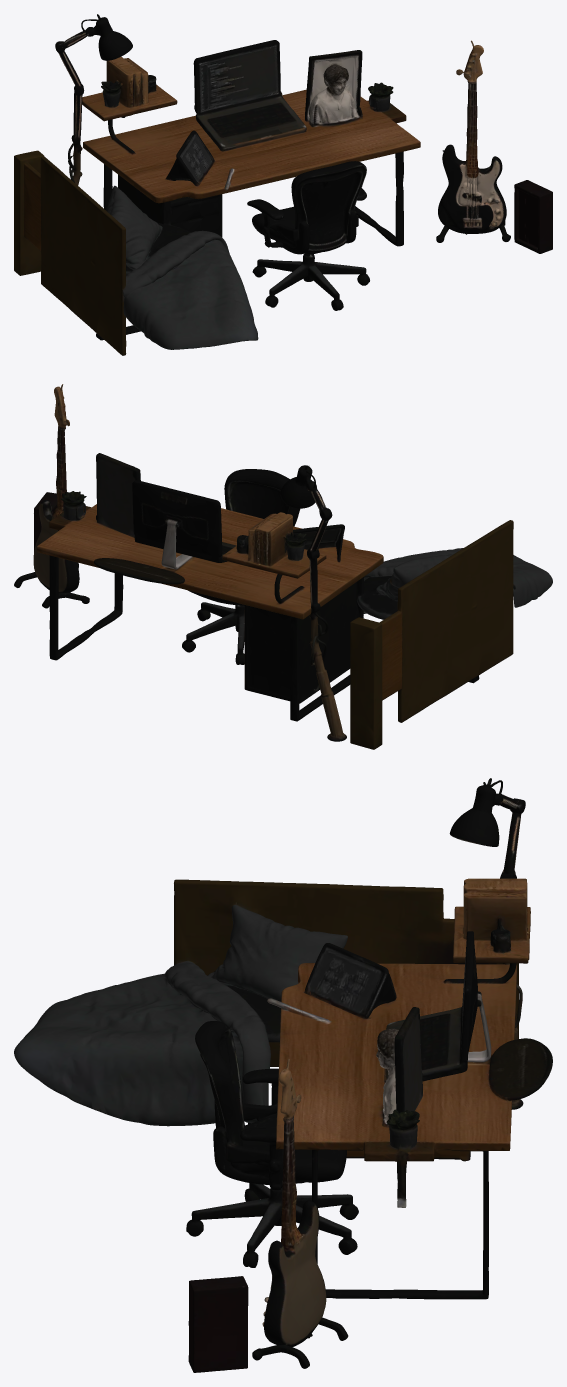
The model's file is room-3d.glb.
The picture shows the model from 3 angles, top to bottom: view 1: azimuth 30°, elevation 25°; view 2: azimuth 150°, elevation 25°; view 3: azimuth 270°, elevation 25°; orthographic projection. The views are drawn at different scales.
Parts seen in each view (by area): view 1: tripo_node_ea366ce3-75f6-42dc-ad20-02c5131ed846; view 2: tripo_node_ea366ce3-75f6-42dc-ad20-02c5131ed846; view 3: tripo_node_ea366ce3-75f6-42dc-ad20-02c5131ed846.
Boxes of the visible parts, x1,y1,x2,y2 form: tripo_node_ea366ce3-75f6-42dc-ad20-02c5131ed846: [14, 14, 552, 355]; tripo_node_ea366ce3-75f6-42dc-ad20-02c5131ed846: [14, 384, 552, 749]; tripo_node_ea366ce3-75f6-42dc-ad20-02c5131ed846: [14, 778, 552, 1372].
Bounding box in the file's own units: 1 × 0.5534 × 0.7466.
Materials: 1 (1 with a texture image).
